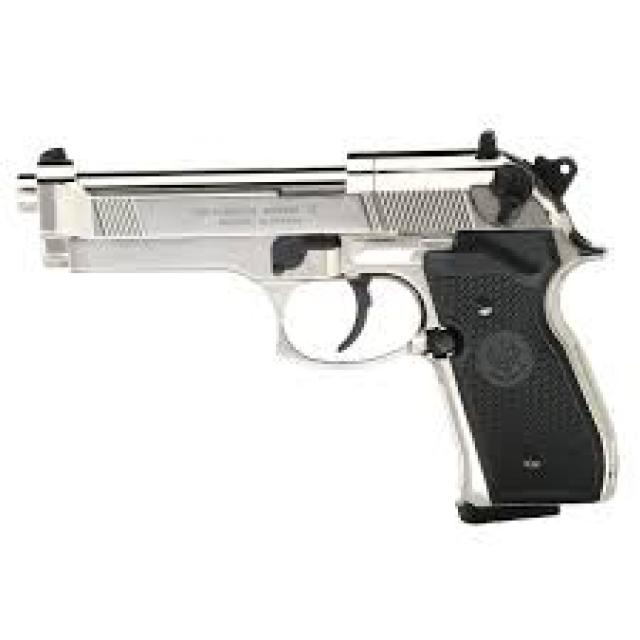pistol: (13, 125, 622, 539)
